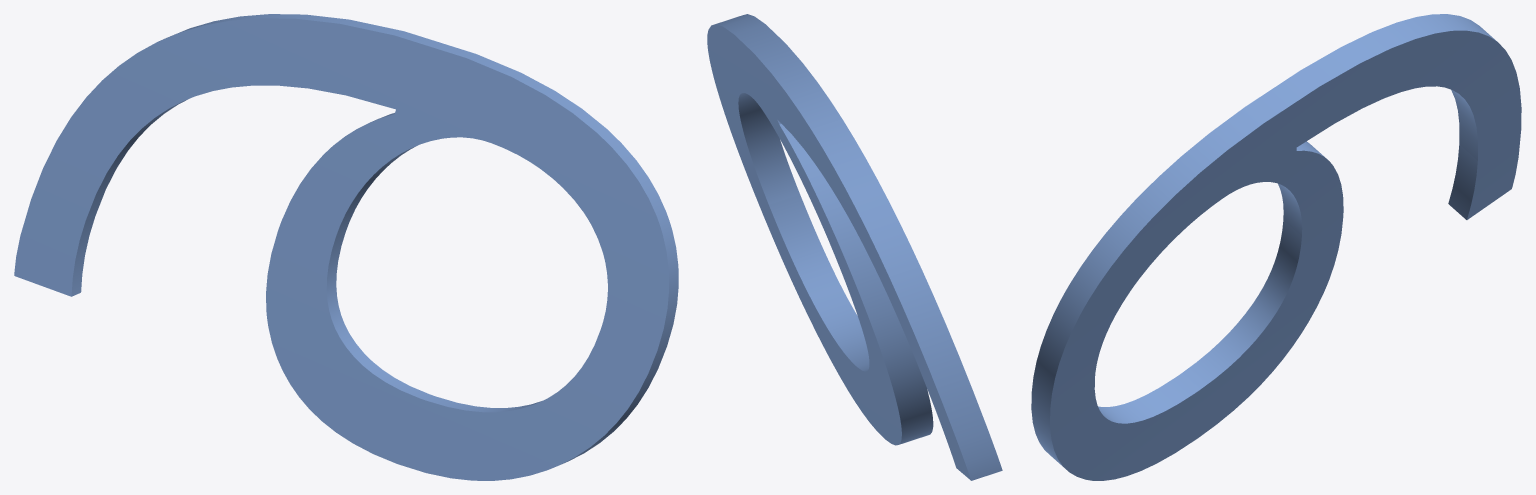
The model's file is New_Number_9.gltf.
3 renders of one model, left to right at view 1: azimuth 30°, elevation 25°; view 2: azimuth 150°, elevation 25°; view 3: azimuth 270°, elevation 25°, orthographic. The views are drawn at different scales.
Parts seen in each view (by area): view 1: Part 396; view 2: Part 396; view 3: Part 396.
Part boxes in pixels (box(x1,y1,x2,y2)): Part 396: box(14, 14, 678, 480); Part 396: box(707, 14, 1002, 480); Part 396: box(1031, 14, 1521, 480).
Size of the model in its own units: 0.00461 by 0.00379 by 0.00419.
